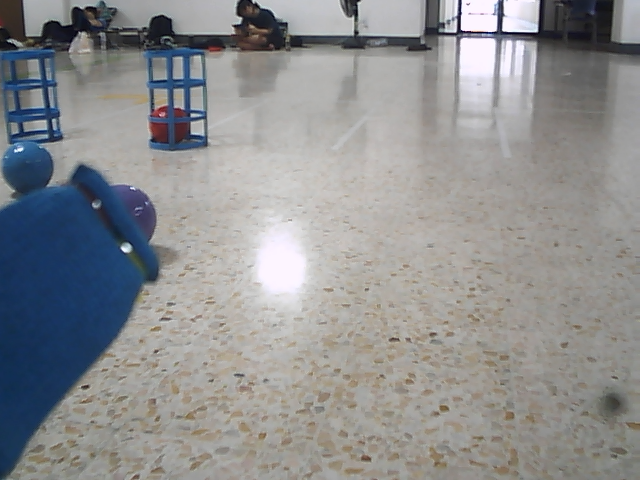Blue ball: (1, 140, 54, 191)
Cyro: (143, 45, 212, 155), (1, 47, 63, 144)
Purple ball: (114, 186, 159, 230)
Red ball: (149, 105, 191, 145)
